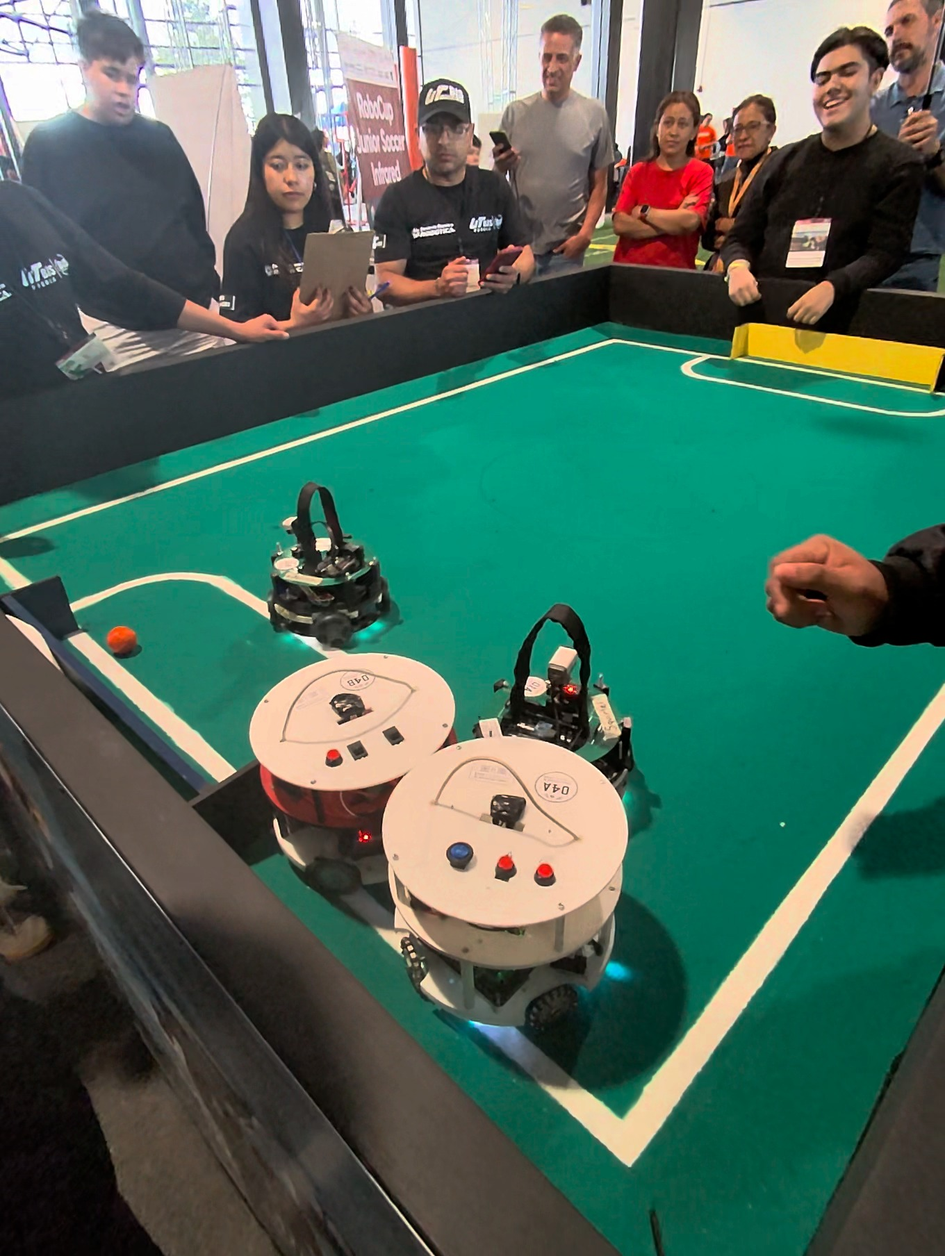Robot: (383, 730, 674, 1075), (229, 647, 475, 884), (491, 589, 619, 776), (270, 475, 394, 647)
pelota: (108, 624, 138, 654)
